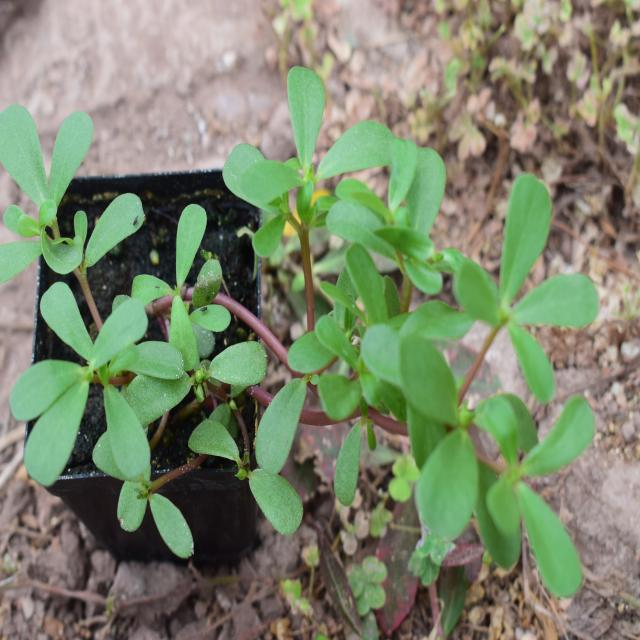purslane: (6, 101, 587, 588)
